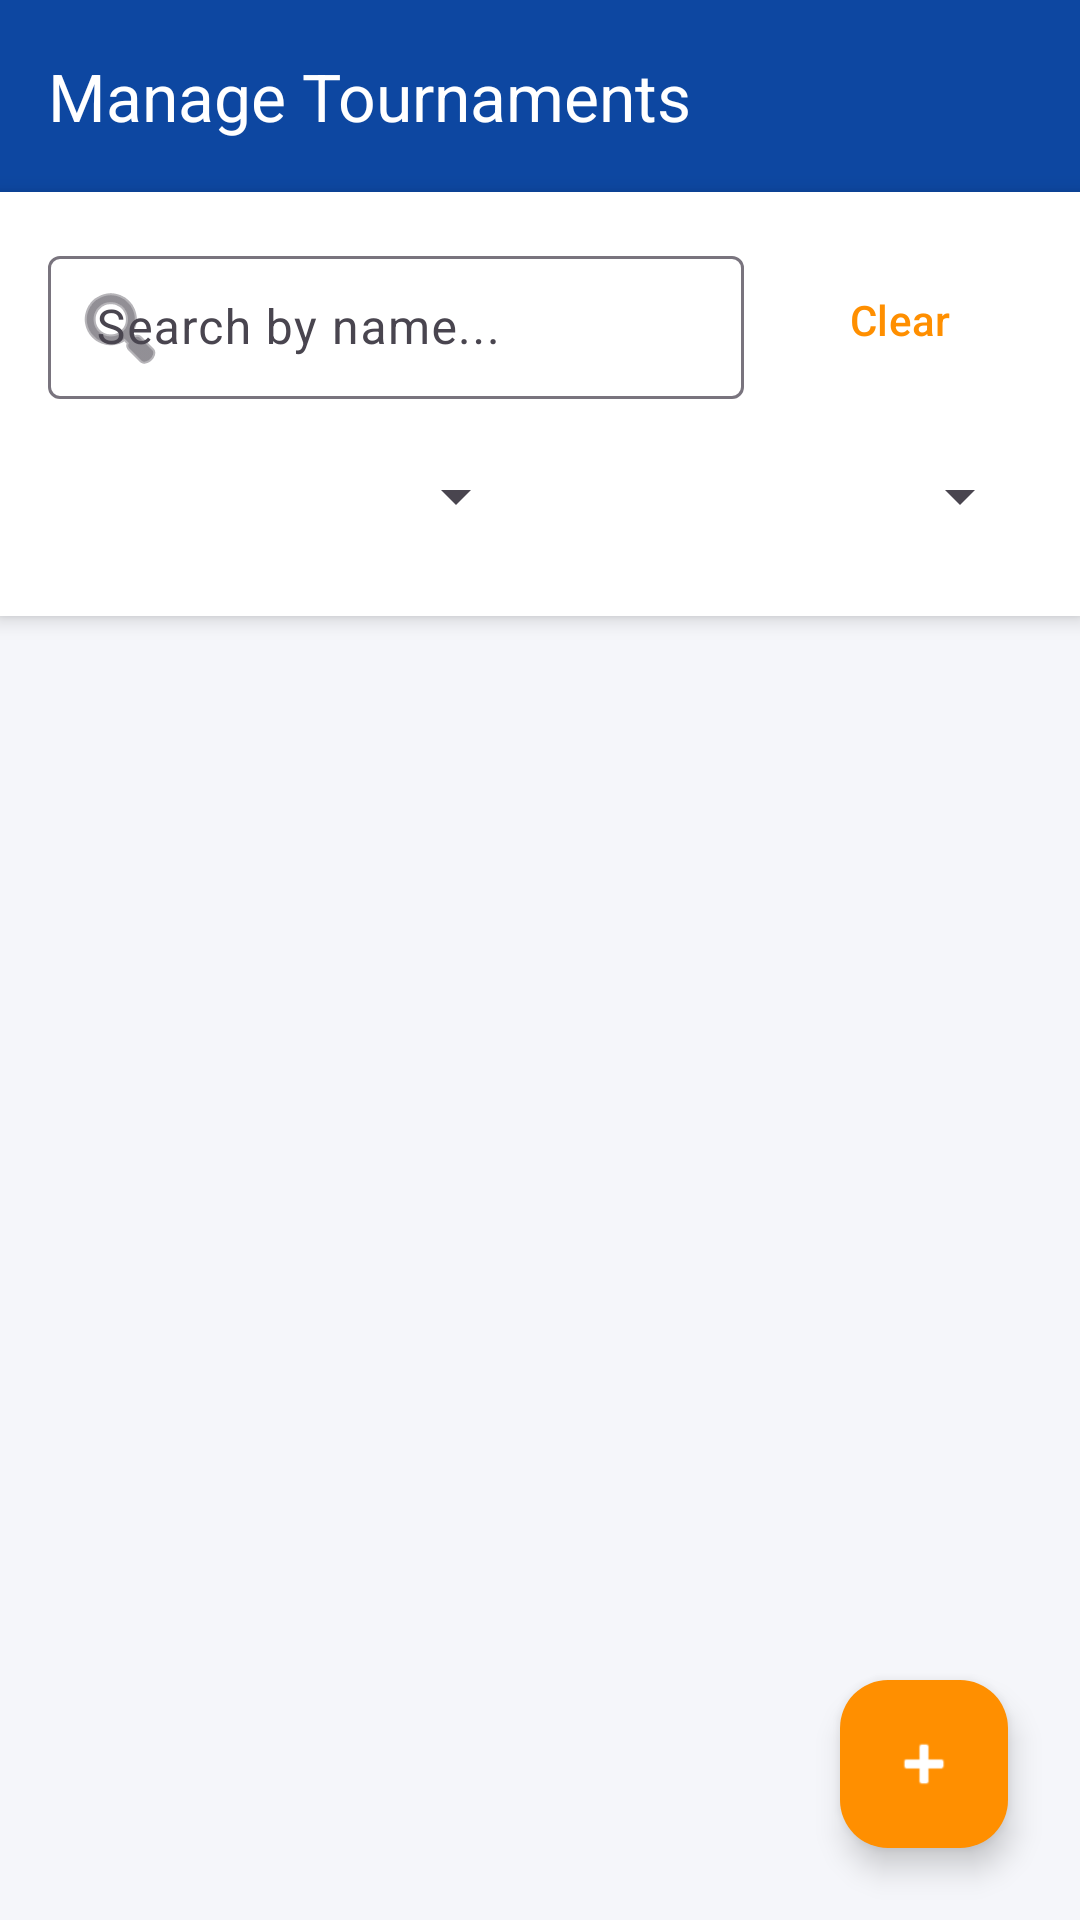

Where to tap for icons on this 1080 x 1920 app screen, as point (x, y):
Add Tournament: point (924, 1764)
